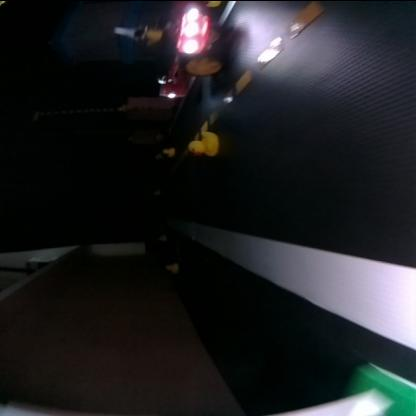Duckie: (188, 130, 218, 156), (162, 146, 174, 156), (166, 262, 178, 271), (158, 233, 166, 239), (118, 103, 126, 109), (154, 188, 160, 194)
Duckiebot: (158, 5, 224, 97)
